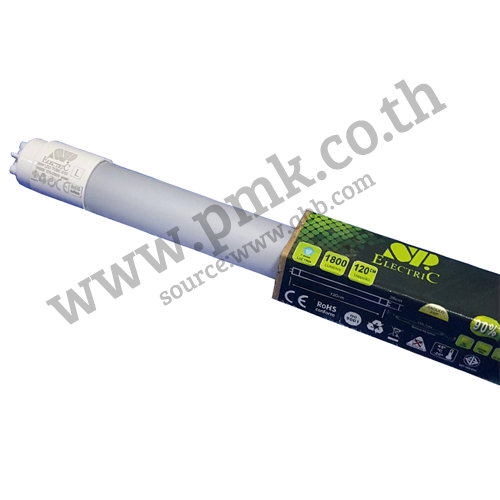Light_bulb: (8, 136, 303, 292)
